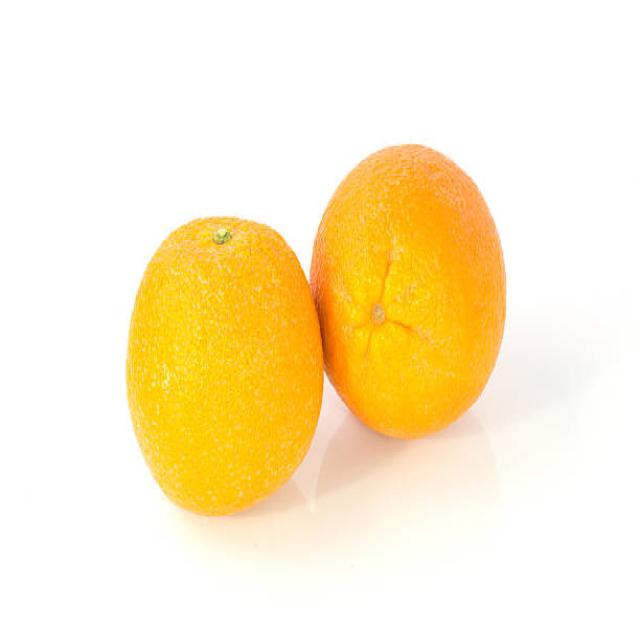Ripe: (121, 211, 323, 521), (307, 141, 508, 445)
